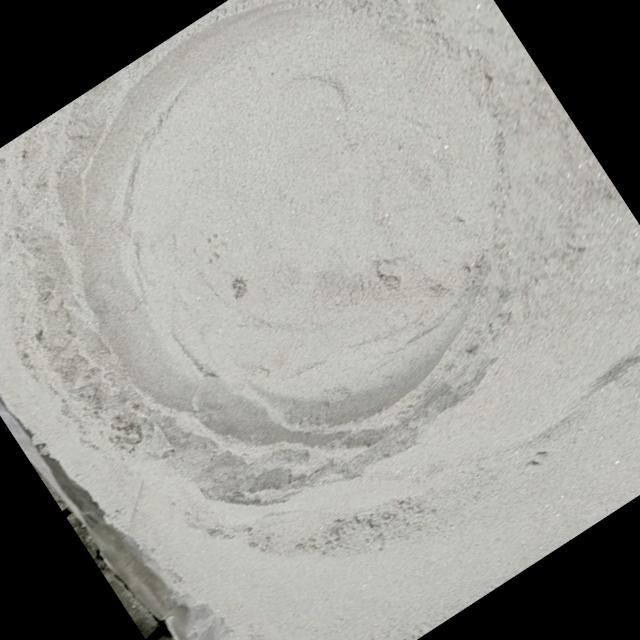C40: (66, 0, 502, 480)
